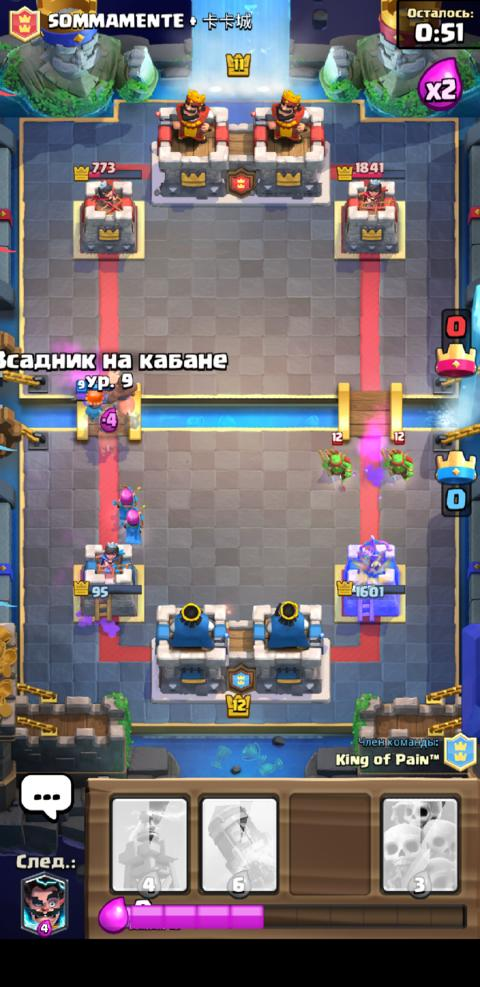ally_archer: (117, 504, 144, 545), (110, 483, 141, 518)
ally_hog_rider: (101, 368, 139, 418)
ally_valkyrie: (74, 377, 104, 421)
enemy_spear_goblin: (378, 429, 414, 485), (318, 430, 351, 485)
